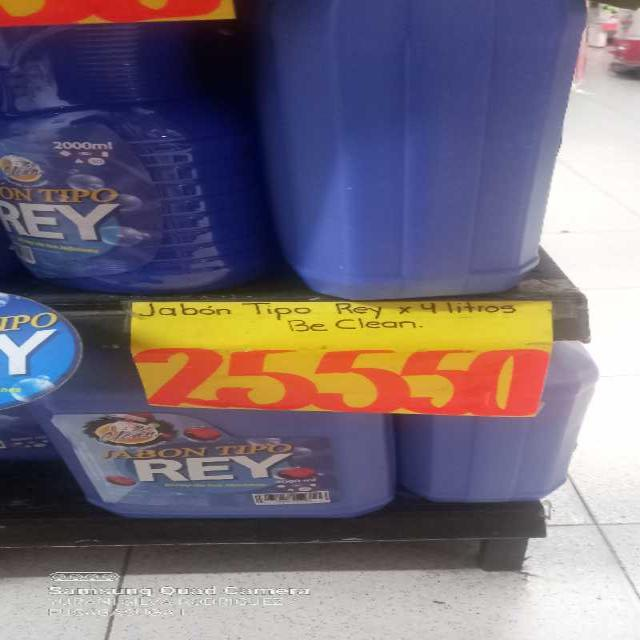Jabon_rey: (54, 383, 396, 526)
